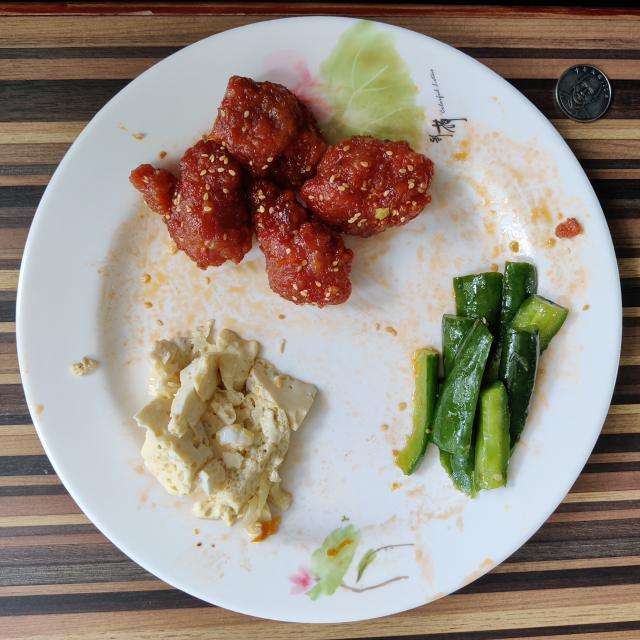coin: (555, 64, 611, 122)
cucumber: (396, 261, 569, 498)
